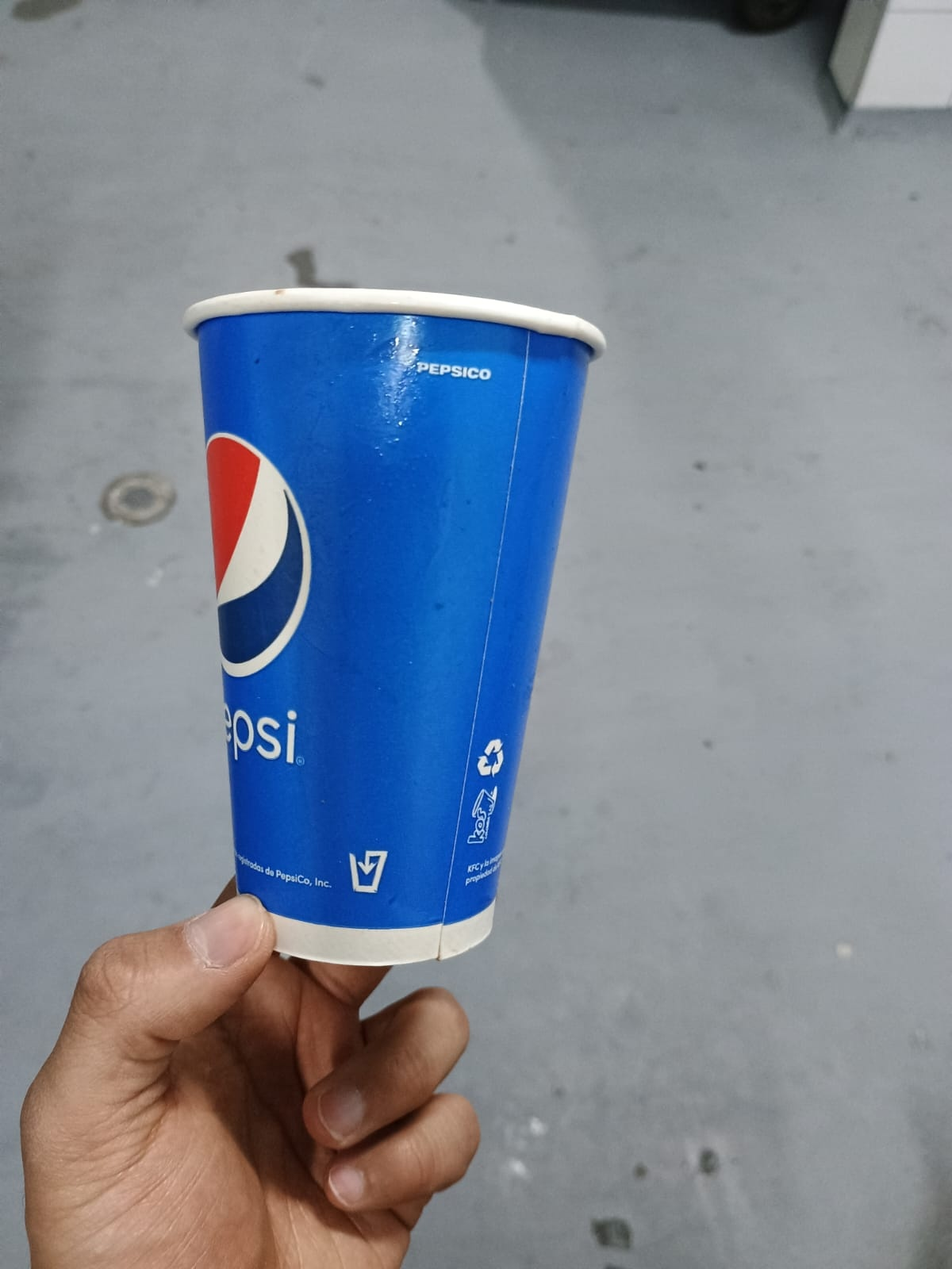Carton: (186, 288, 607, 966)
